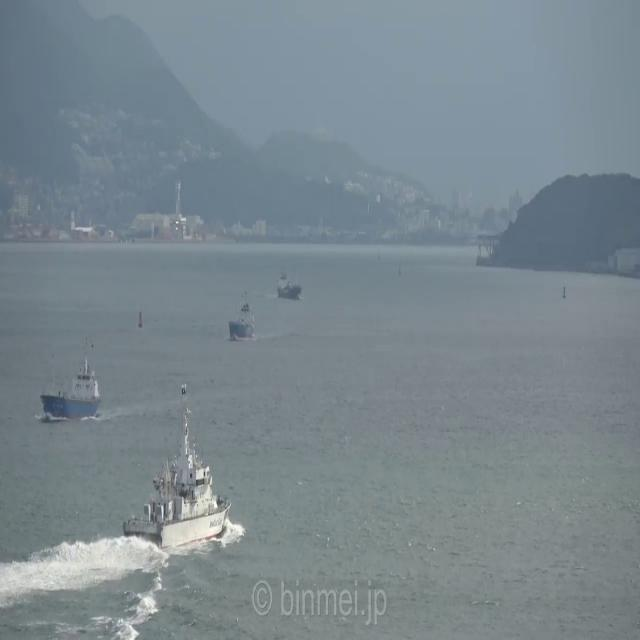Ship: (116, 418, 239, 569), (39, 365, 103, 426), (228, 296, 259, 340), (277, 265, 305, 298)
